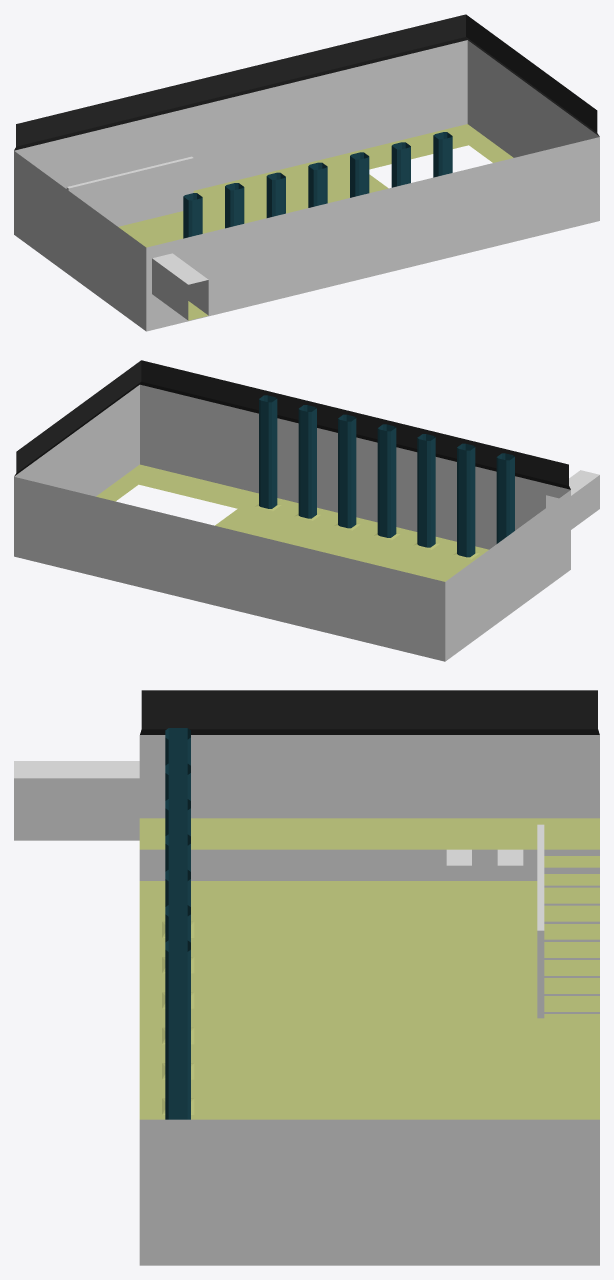
The model's file is nightclub.fbx.
3 views of the same model, one above another, from view 1: azimuth 30°, elevation 25°; view 2: azimuth 150°, elevation 25°; view 3: azimuth 270°, elevation 25° (orthographic). The views are drawn at different scales.
Parts seen in each view (by area): view 1: Cube; view 2: Cube; view 3: Cube.
Part boxes in pixels (x1=…): Cube: x1=14, y1=14, x2=599, y2=331; Cube: x1=14, y1=360, x2=599, y2=661; Cube: x1=14, y1=690, x2=599, y2=1265.
Bounding box in the file's own units: 1978 × 470 × 1273.
